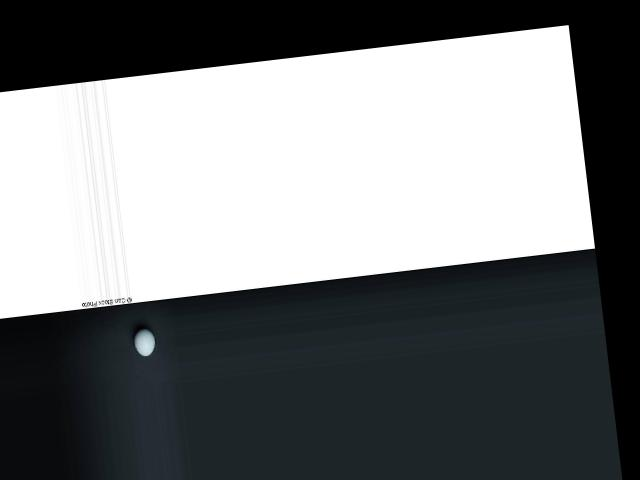egg: (132, 327, 156, 357)
